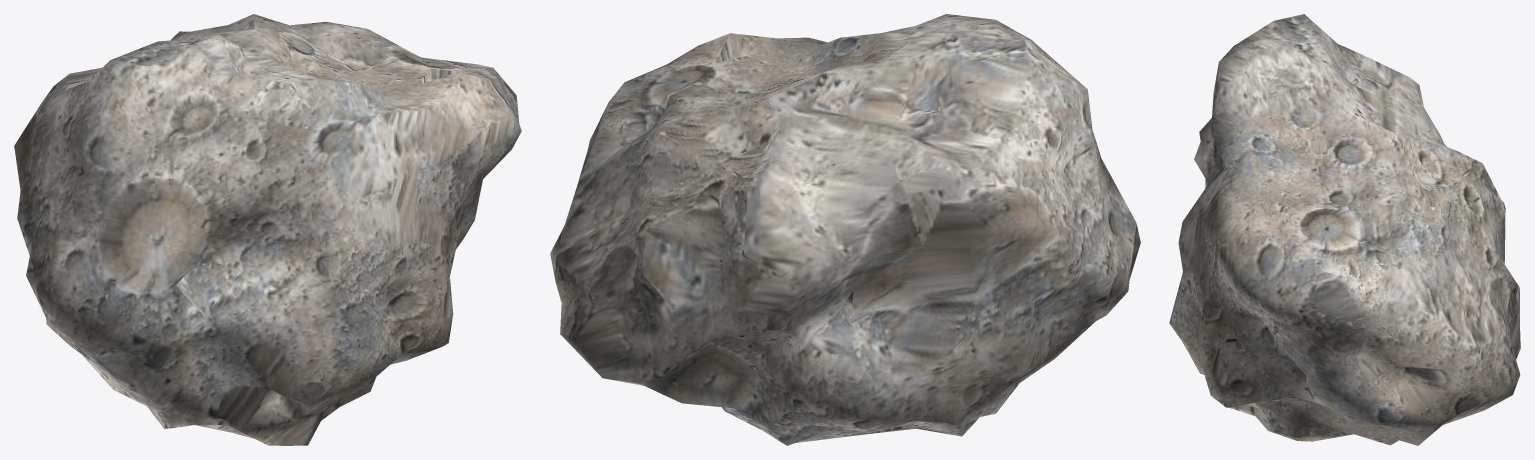
The model's file is asteroid_08.glb.
3 renders of one model, left to right at view 1: azimuth 30°, elevation 25°; view 2: azimuth 150°, elevation 25°; view 3: azimuth 270°, elevation 25°, orthographic. The views are drawn at different scales.
Visible parts, largest first — view 1: Mesh_0.003; view 2: Mesh_0.003; view 3: Mesh_0.003.
Part boxes in pixels (x1=…): Mesh_0.003: x1=14, y1=14, x2=521, y2=445; Mesh_0.003: x1=550, y1=14, x2=1140, y2=445; Mesh_0.003: x1=1169, y1=14, x2=1520, y2=445.
Size of the model in its own units: 1.88 by 1.48 by 1.36.
1 material, 1 textured.
